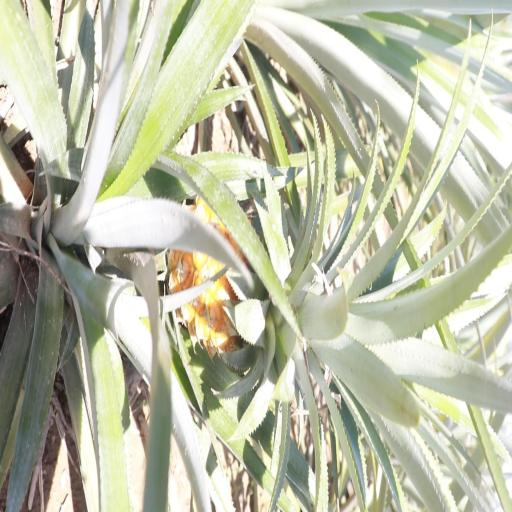Pineapple - v8 v1: (176, 198, 422, 370)
